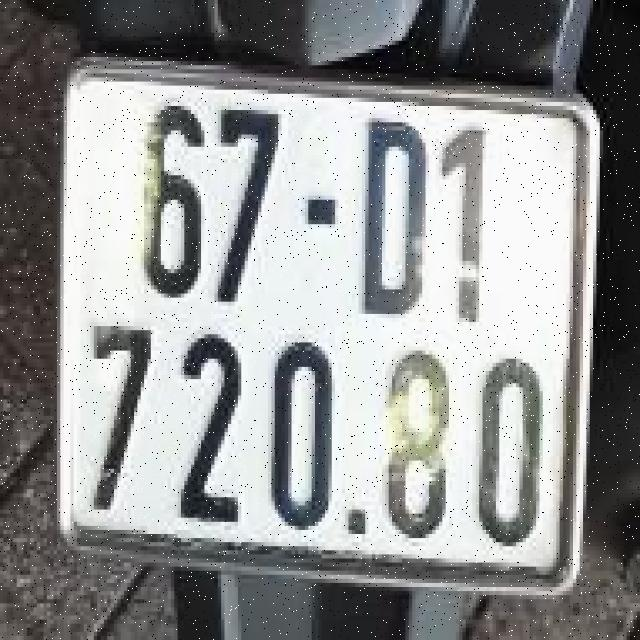0: (464, 340, 565, 564), (266, 312, 344, 536)
1: (444, 114, 501, 343)
2: (169, 322, 246, 538)
6: (107, 77, 208, 310)
7: (204, 88, 288, 300), (77, 306, 158, 505)
8: (370, 328, 458, 565)
D: (338, 106, 442, 330)
